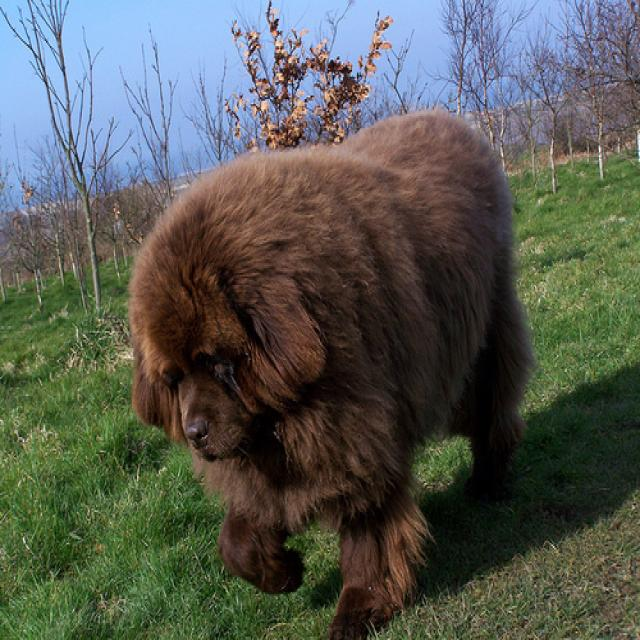dog-newfoundland: (109, 99, 539, 637)
